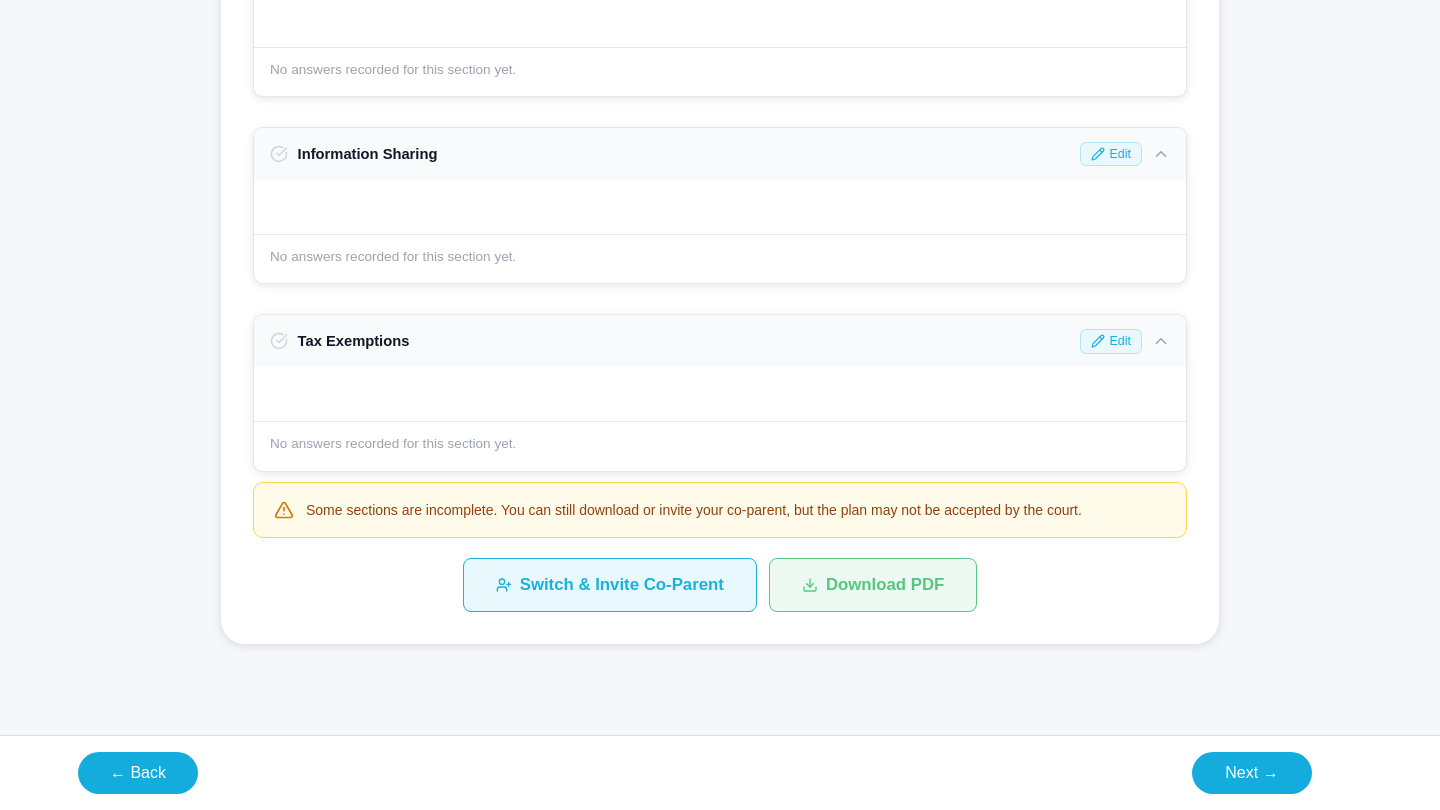
Test: Review › opens switch prompt when invite is clicked with mode not set
(page scrolled)
Step 1. Click the button "Switch & Invite Co-Parent" → (610, 585), box [463,558,757,612]
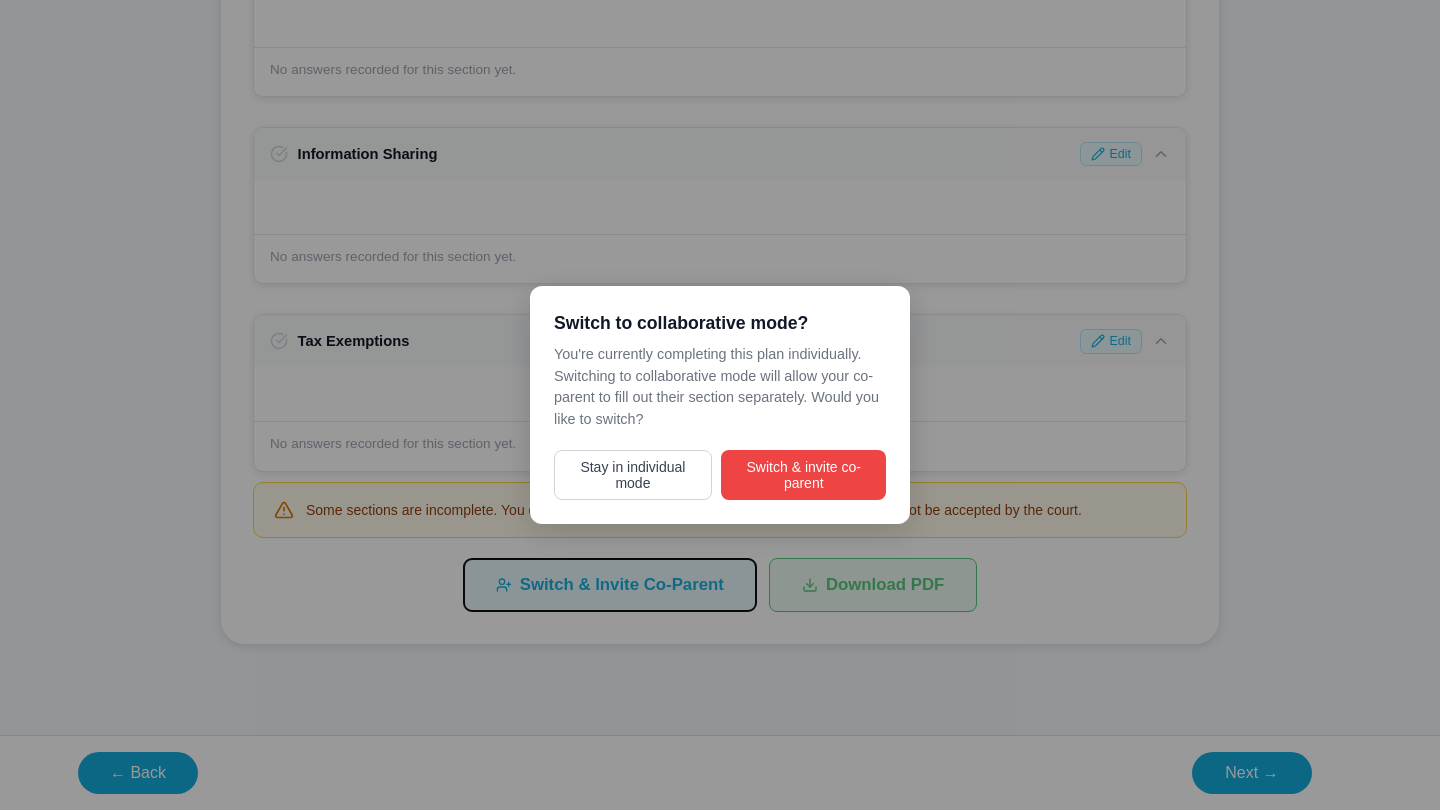
Result: the heading "Switch to collaborative mode?" is shown at [554,313,808,333]
